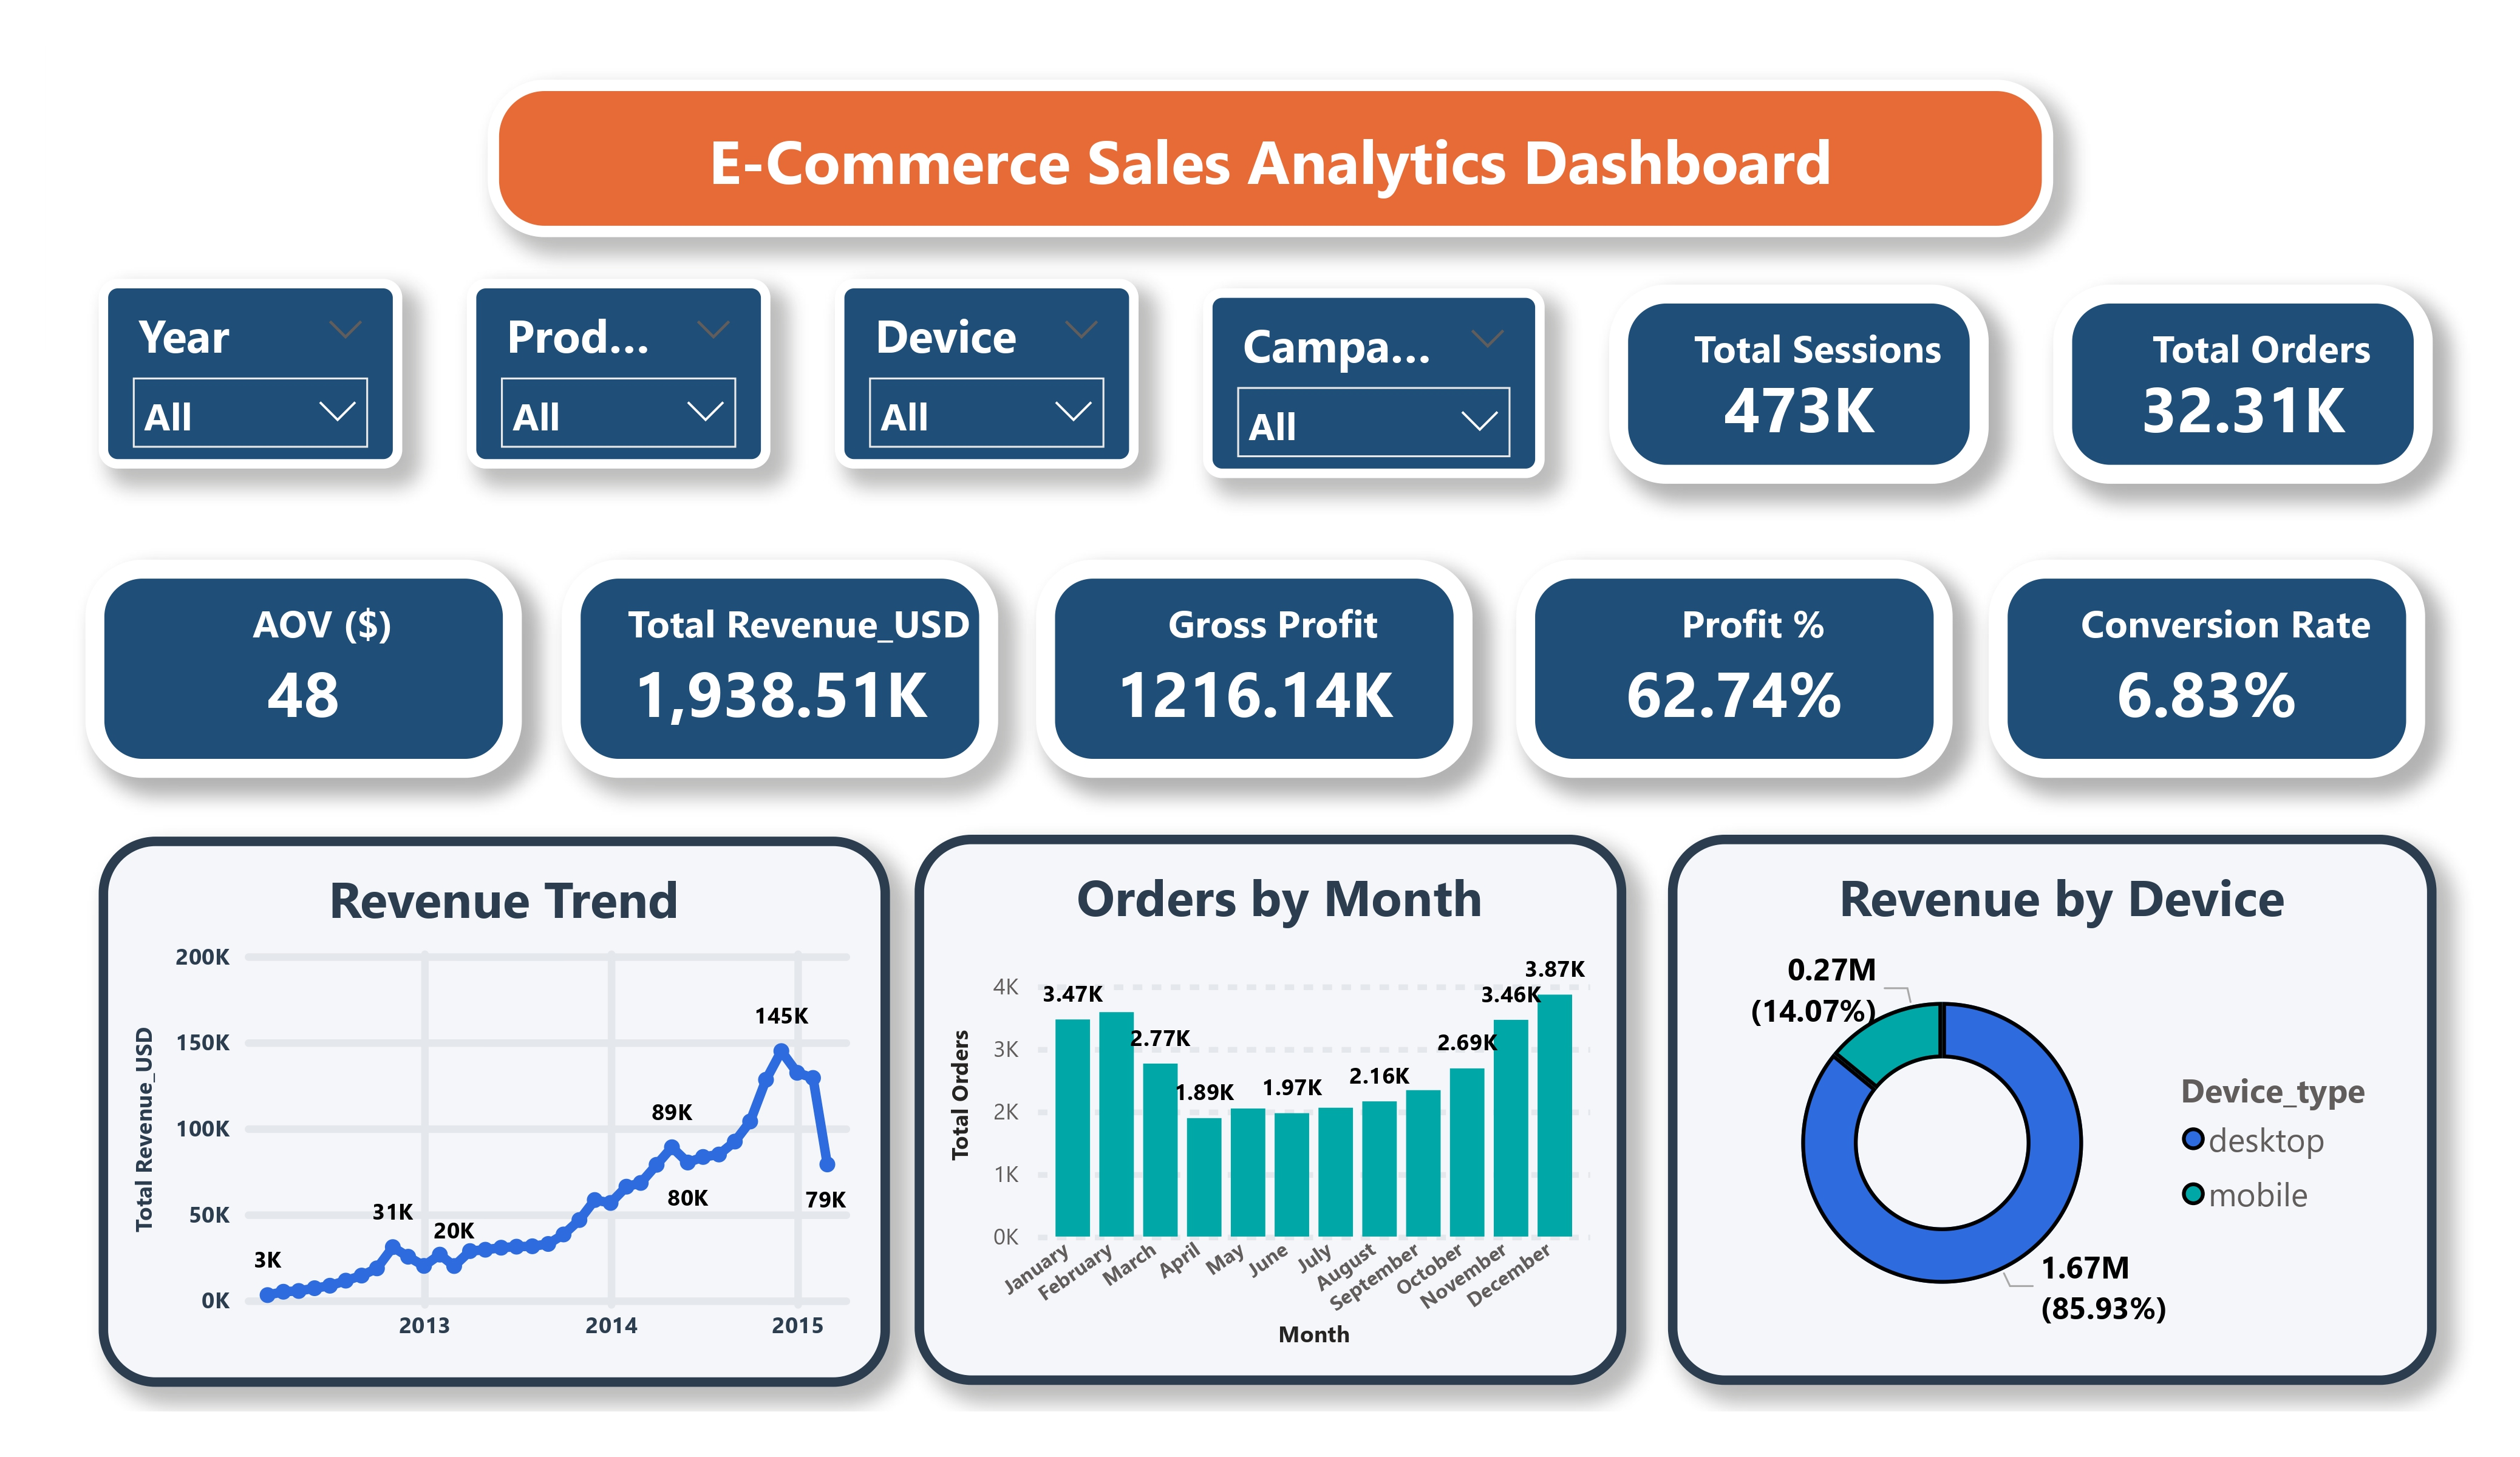

The dashboard page shown, as its layout file describes it:
{"tool":"powerbi","page":{"name":"Sales_overview","canvas":[1280,720],"ordinal":0},"visuals":[{"type":"card","title":"Total Revenue_USD","fields":{"Values":["orders.Total Revenue"]},"box":[271.6,270.9,230,115],"z":0},{"type":"card","title":"Total Orders","fields":{"Values":["orders.Total Orders"]},"box":[1057.5,126.2,200,105],"z":1000},{"type":"card","title":"Conversion Rate   ","fields":{"Values":["orders.Conversion Rate"]},"box":[1023.8,270.9,230,115],"z":2000},{"type":"card","title":"Total Sessions","fields":{"Values":["website_sessions.Total Sessions"]},"box":[823.5,126.2,200,105],"z":3000},{"type":"card","title":"AOV ($) ","fields":{"Values":["Avg(order_items.price_usd)"]},"box":[20.9,270.9,230,115],"z":4000},{"type":"lineChart","title":"Revenue Trend","fields":{"Category":["orders.created_at.Variation.Date Hierarchy.Year","orders.created_at.Variation.Date Hierarchy.Month"],"Y":["orders.Total Revenue"]},"box":[28.3,416.7,416.7,290],"z":5000},{"type":"slicer","fields":{"Values":["orders.created_at.Variation.Date Hierarchy.Year"]},"box":[27.5,122.5,160,100],"z":6000},{"type":"slicer","fields":{"Values":["products.product_name"]},"box":[221.5,122.5,160,100],"z":7000},{"type":"textbox","box":[232.5,17.5,825,83.8],"z":8000},{"type":"clusteredColumnChart","title":"Orders by Month","fields":{"Y":["orders.Total Orders"],"Category":["orders.created_at.Variation.Date Hierarchy.Month"]},"box":[458.1,416.2,375,290],"z":9000},{"type":"donutChart","title":"Revenue by Device","fields":{"Y":["Sum(orders.price_usd)"],"Category":["website_sessions.device_type"]},"box":[855,416.2,405,290],"z":10000},{"type":"slicer","fields":{"Values":["website_sessions.device_type"]},"box":[415.5,122.5,160,100],"z":11000},{"type":"slicer","fields":{"Values":["website_sessions.utm_campaign"]},"box":[609.5,127.5,180,100],"z":12000},{"type":"card","title":"Gross Profit","fields":{"Values":["orders.Profit"]},"box":[522.3,270.9,230,115],"z":13000},{"type":"card","title":"Profit % ","fields":{"Values":["orders.Profit %"]},"box":[775,271.2,230,115],"z":14000}]}

Visuals, with their boxes in screenshot pixels (x1, y1, x2, y2):
"Total Revenue_USD" card: [568,560,998,775]
"Total Orders" card: [2040,289,2414,485]
"Conversion Rate   " card: [1977,560,2407,775]
"Total Sessions" card: [1601,289,1976,485]
"AOV ($) " card: [98,560,529,775]
"Revenue Trend" lineChart: [112,833,893,1376]
slicer - orders.created_at.Variation.Date Hierarchy.Year: [111,282,410,469]
slicer - products.product_name: [474,282,774,469]
textbox: [494,85,2040,242]
"Orders by Month" clusteredColumnChart: [917,832,1619,1374]
"Revenue by Device" donutChart: [1660,832,2419,1374]
slicer - website_sessions.device_type: [837,282,1137,469]
slicer - website_sessions.utm_campaign: [1200,291,1538,478]
"Gross Profit" card: [1037,560,1468,775]
"Profit % " card: [1510,560,1941,776]
